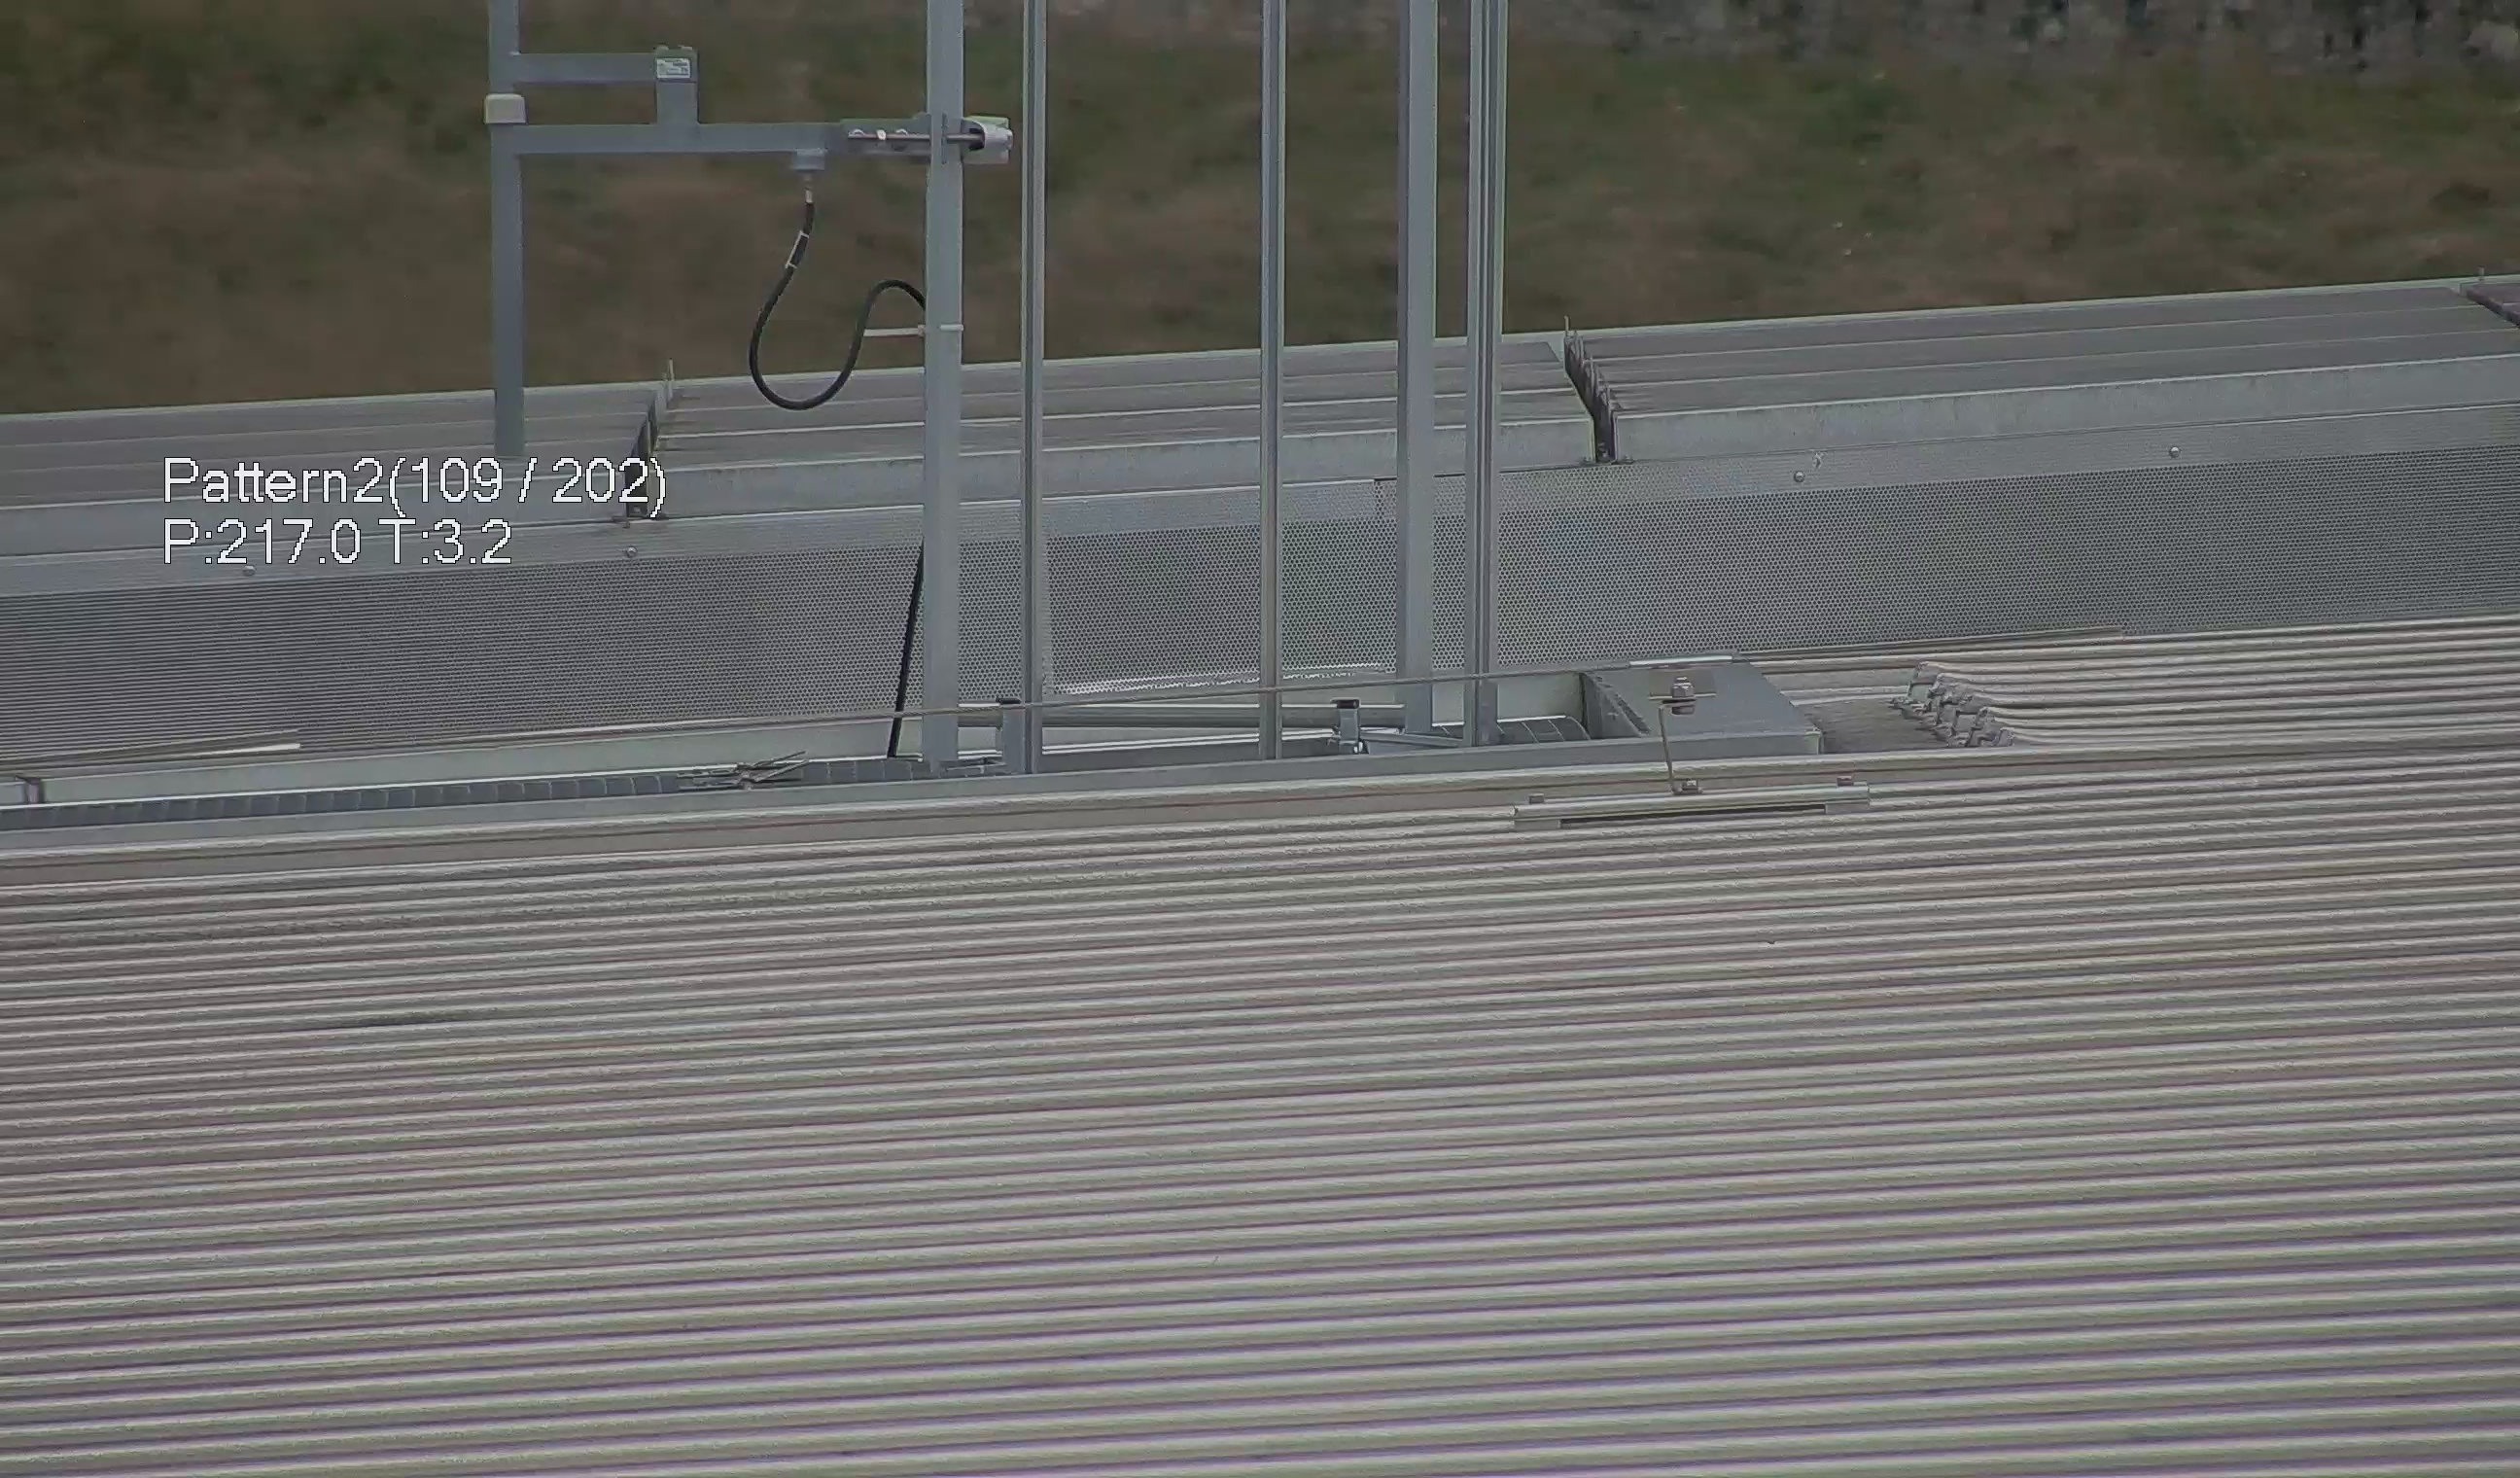Other: (1537, 304, 1641, 461)
